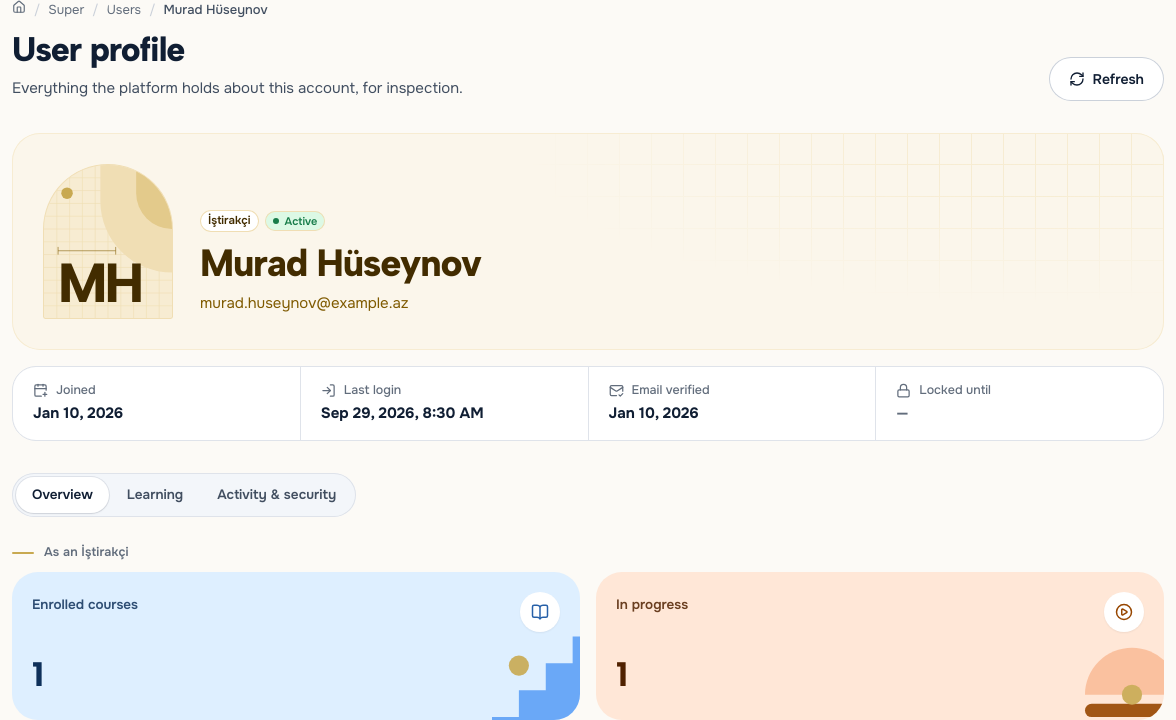
UserProfilePage › shows an İştirakçi with no expert profile, without an Expert tab
Expected: the heading "Murad Hüseynov" is shown, [200,244,481,284]
Expected: the text "İştirakçi" is shown, [200,210,258,232]
Click the tab "Learning": coordinates (155, 495) [111,477,199,513]
(page scrolled)
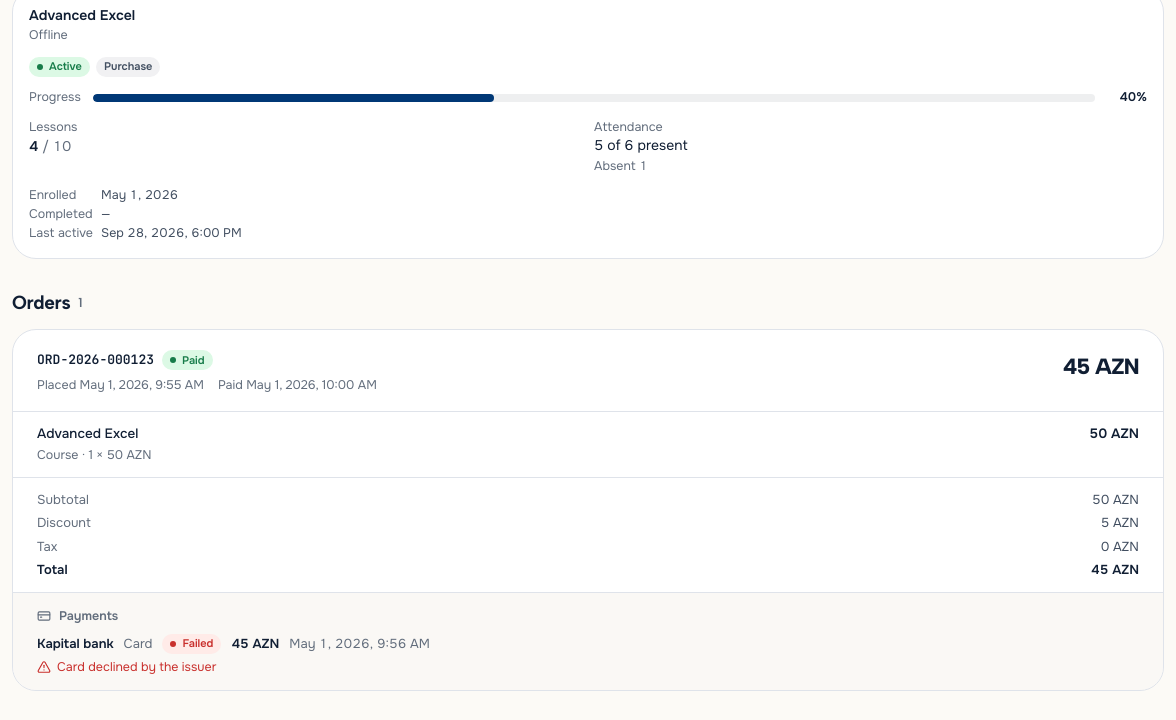
Result: the text "ORD-2026-000123" is shown at [37,350,154,370]
